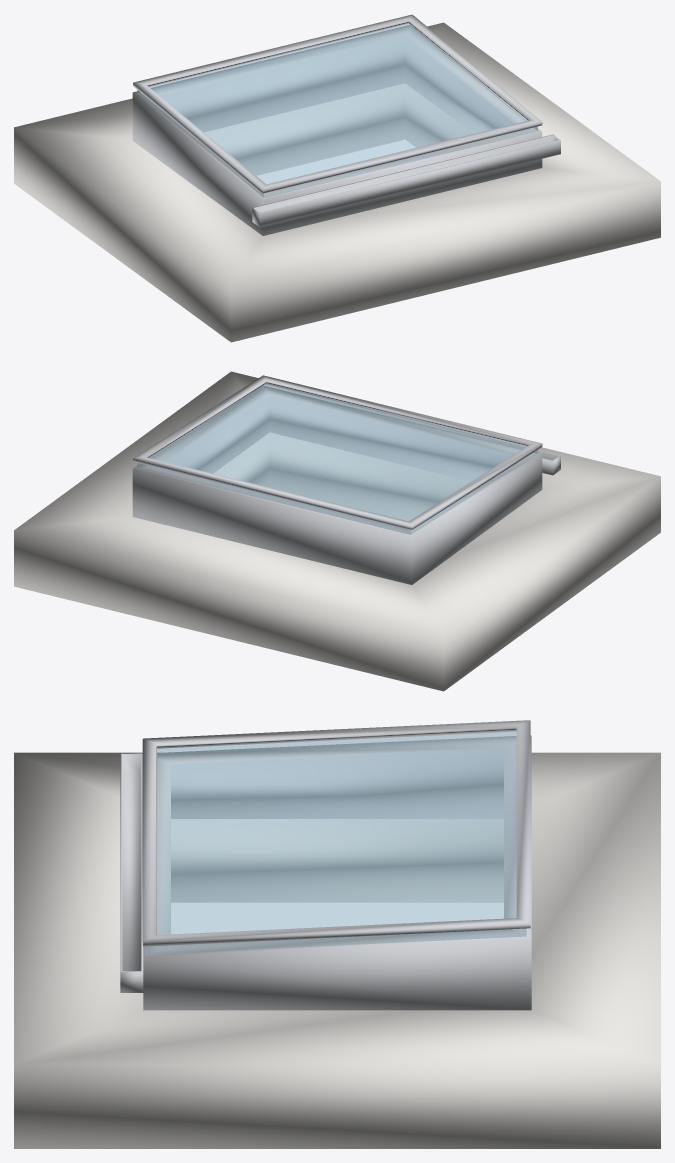
Rendered from skylight-on-kerb.glb.
3 views of the same model, one above another, from view 1: azimuth 30°, elevation 25°; view 2: azimuth 150°, elevation 25°; view 3: azimuth 270°, elevation 25° (orthographic). The views are drawn at different scales.
Visible parts, largest first — view 1: Roof_slab__context_, IGU_6-12-6__24mm_, Upstand_kerb__aluminium_, Pressure_cap, Gutter__aluminium_; view 2: Roof_slab__context_, Upstand_kerb__aluminium_, IGU_6-12-6__24mm_, Pressure_cap, Gutter__aluminium_; view 3: Roof_slab__context_, IGU_6-12-6__24mm_, Upstand_kerb__aluminium_, Pressure_cap, Gutter__aluminium_.
Boxes of the visible parts, box(x1,y1,x2,y2) form: Roof_slab__context_: box(14, 22, 660, 342); IGU_6-12-6__24mm_: box(137, 23, 537, 197); Upstand_kerb__aluminium_: box(132, 25, 542, 235); Pressure_cap: box(133, 14, 542, 193); Gutter__aluminium_: box(252, 134, 560, 227); Roof_slab__context_: box(14, 371, 660, 691); Upstand_kerb__aluminium_: box(132, 386, 542, 584); IGU_6-12-6__24mm_: box(137, 384, 537, 534); Pressure_cap: box(133, 375, 542, 529); Gutter__aluminium_: box(264, 384, 560, 475); Roof_slab__context_: box(14, 752, 660, 1148); IGU_6-12-6__24mm_: box(148, 731, 526, 954); Upstand_kerb__aluminium_: box(143, 735, 531, 1010); Pressure_cap: box(142, 720, 530, 946); Gutter__aluminium_: box(120, 753, 143, 992).
Bounding box in the file's own units: 1.6 × 0.4079 × 1.4.
